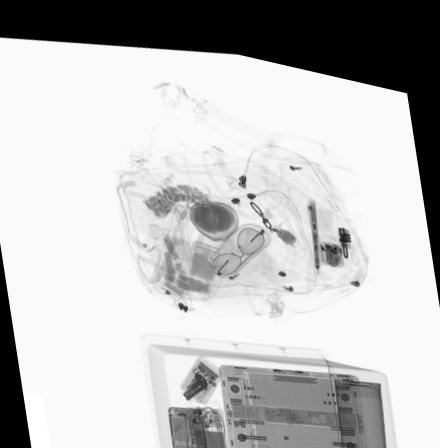Powerbank: (186, 394, 229, 448)
